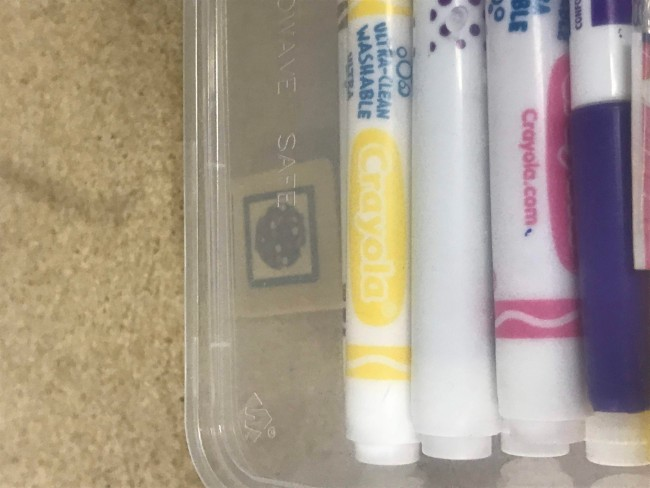cookie: (224, 172, 346, 313)
